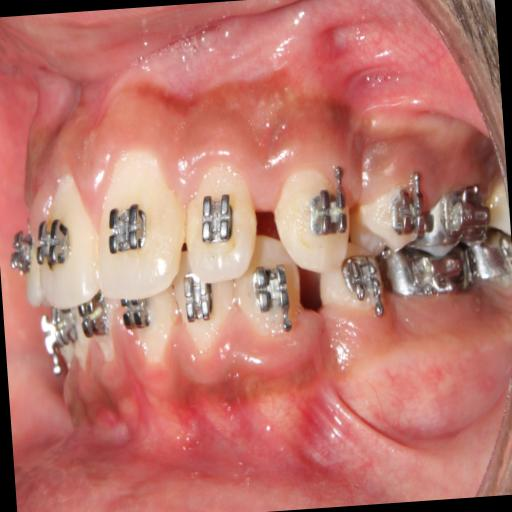correct_brace: (103, 191, 152, 270), (308, 164, 352, 251), (194, 182, 240, 249)
incorrect_brace: (182, 160, 260, 280)
